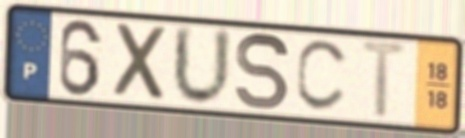6: (56, 17, 106, 99)
C: (293, 38, 353, 116)
S: (233, 30, 292, 114)
T: (357, 37, 413, 123)
U: (170, 22, 234, 111)
X: (112, 19, 172, 105)
